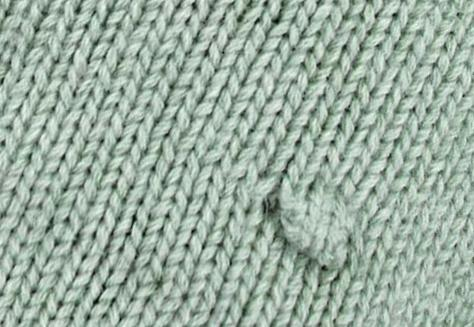knot: (272, 183, 351, 277)
